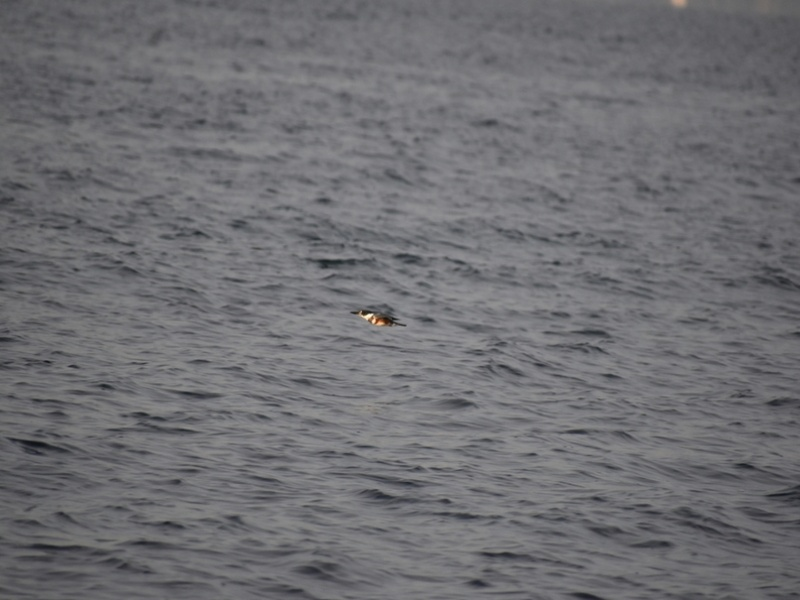kingfisher: (348, 304, 407, 330)
